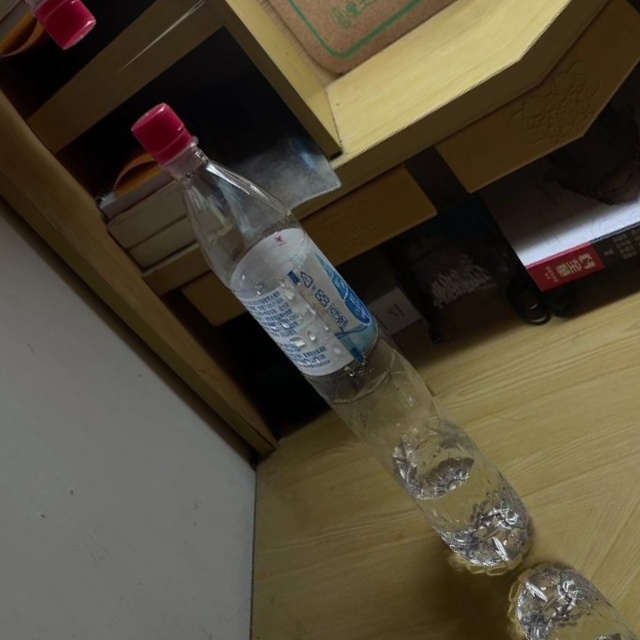Water: (105, 80, 561, 597)
